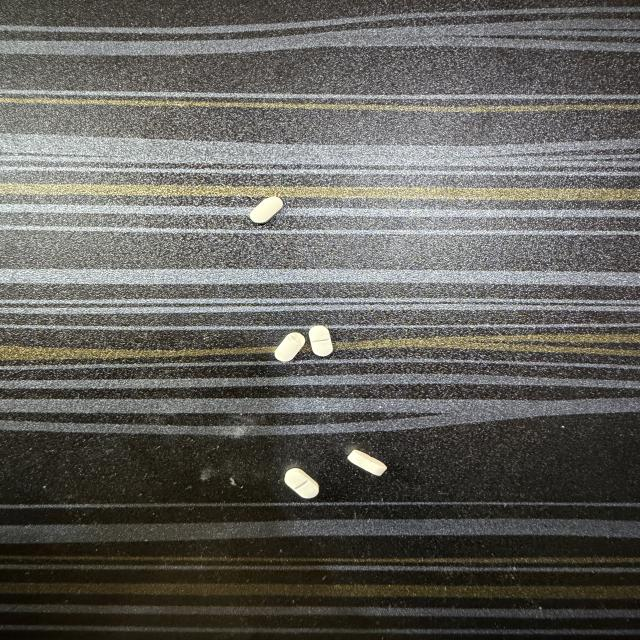pill: (285, 468, 318, 498), (348, 450, 387, 475), (250, 197, 283, 223), (275, 333, 305, 361), (309, 326, 333, 356)
